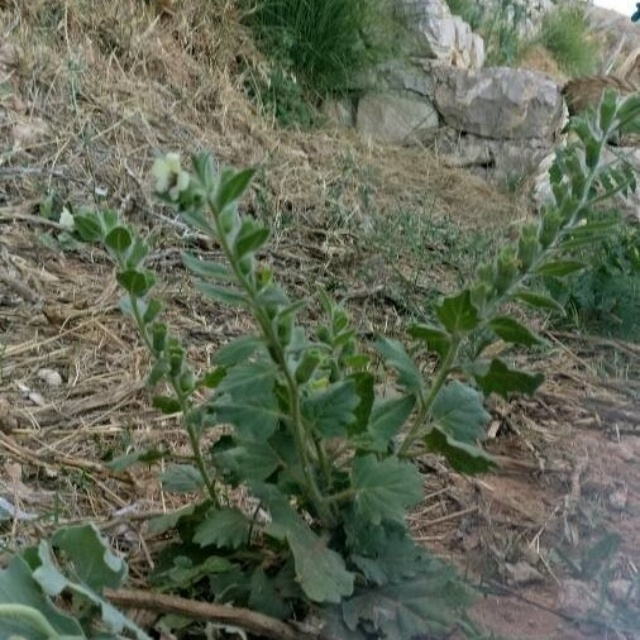obstacle: (71, 138, 410, 579), (435, 73, 615, 469)
